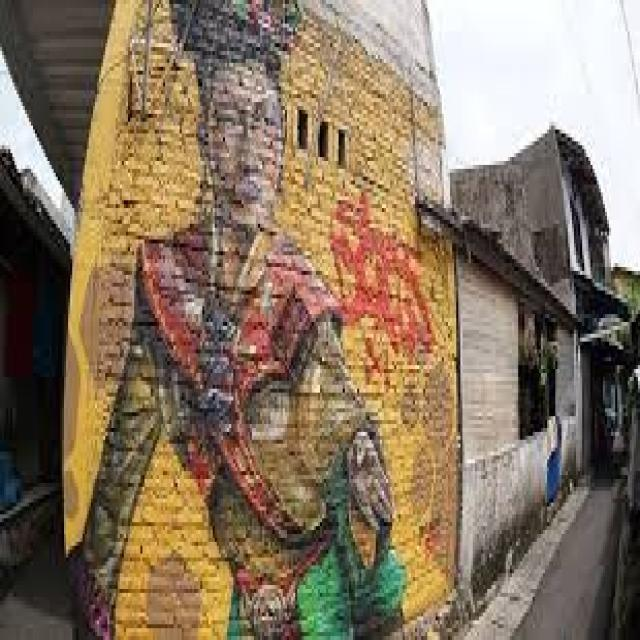-: (64, 0, 406, 640), (328, 184, 438, 393)
